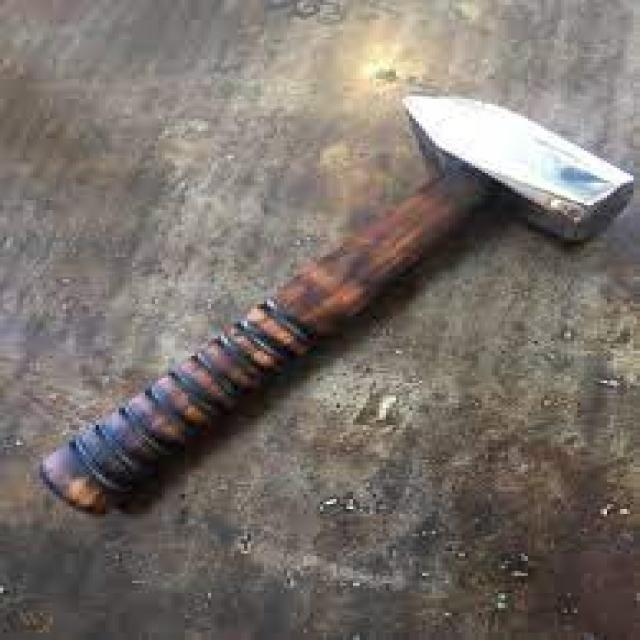hammer: (33, 89, 640, 524)
